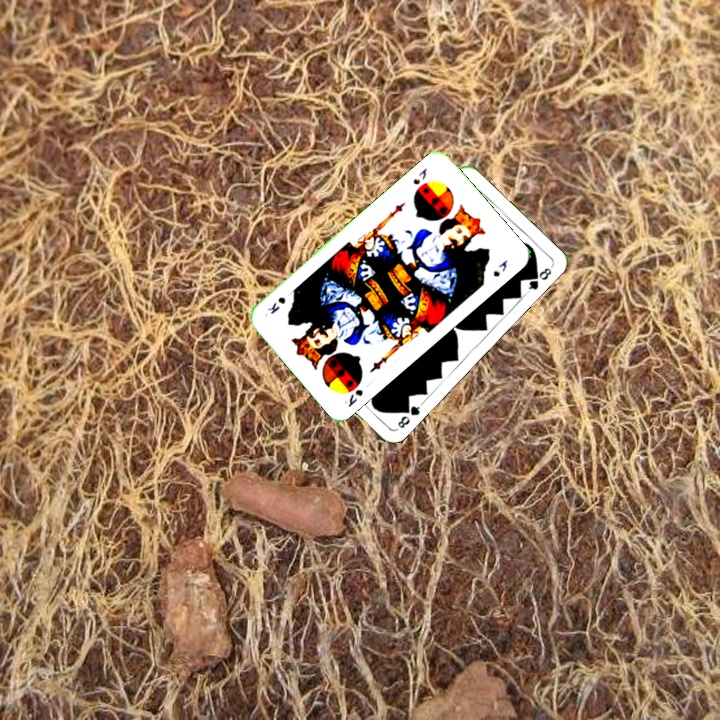G8: (393, 399, 425, 432)
SK: (340, 385, 366, 410), (409, 164, 430, 187)
